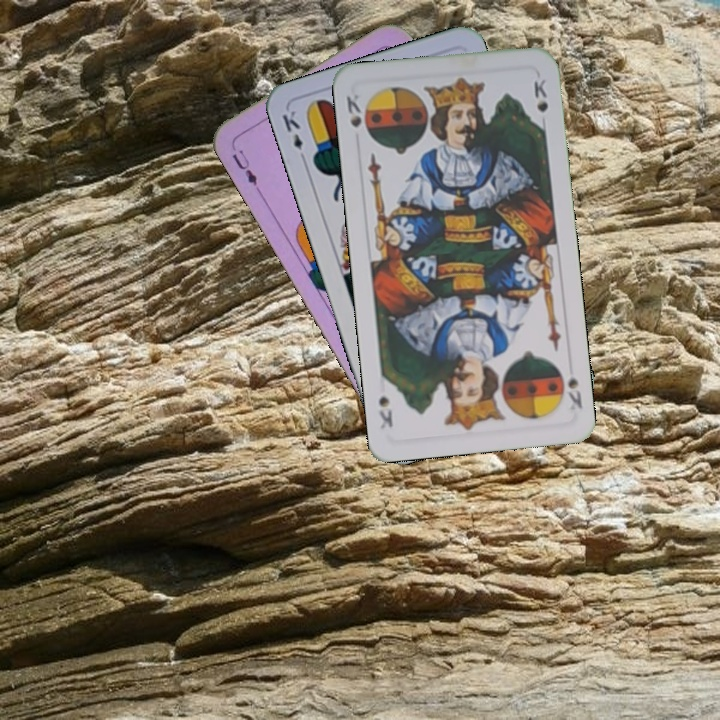EK: (278, 106, 309, 165)
EU: (227, 140, 260, 188)
SK: (564, 371, 585, 413), (342, 90, 364, 130)
